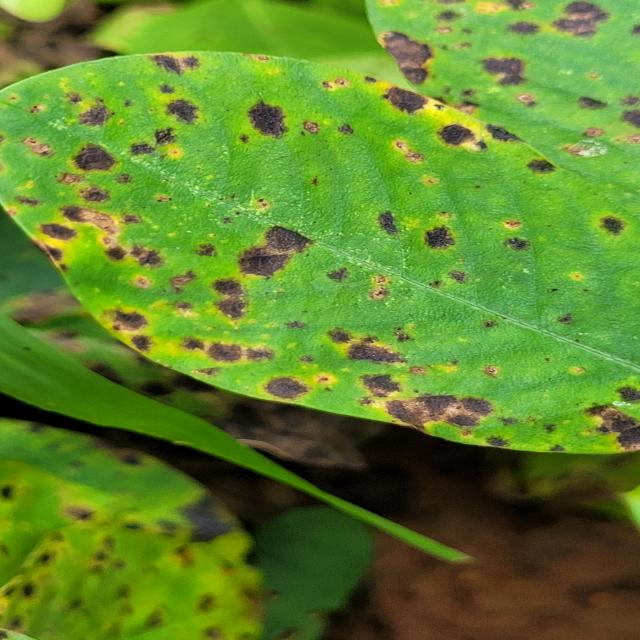Ground nut_tikka leaf spot: (6, 53, 640, 455), (0, 416, 264, 637), (373, 2, 640, 209)
